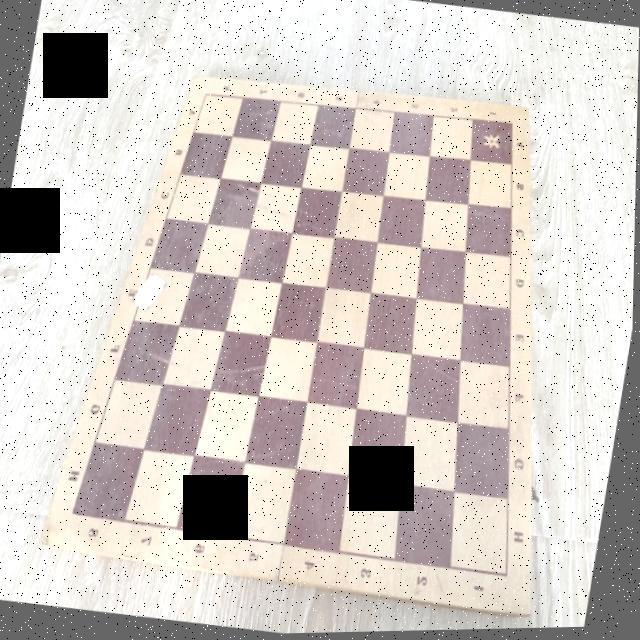chess-table-corners: (490, 561, 528, 595), (62, 498, 86, 528), (504, 118, 520, 134), (199, 88, 214, 104)
